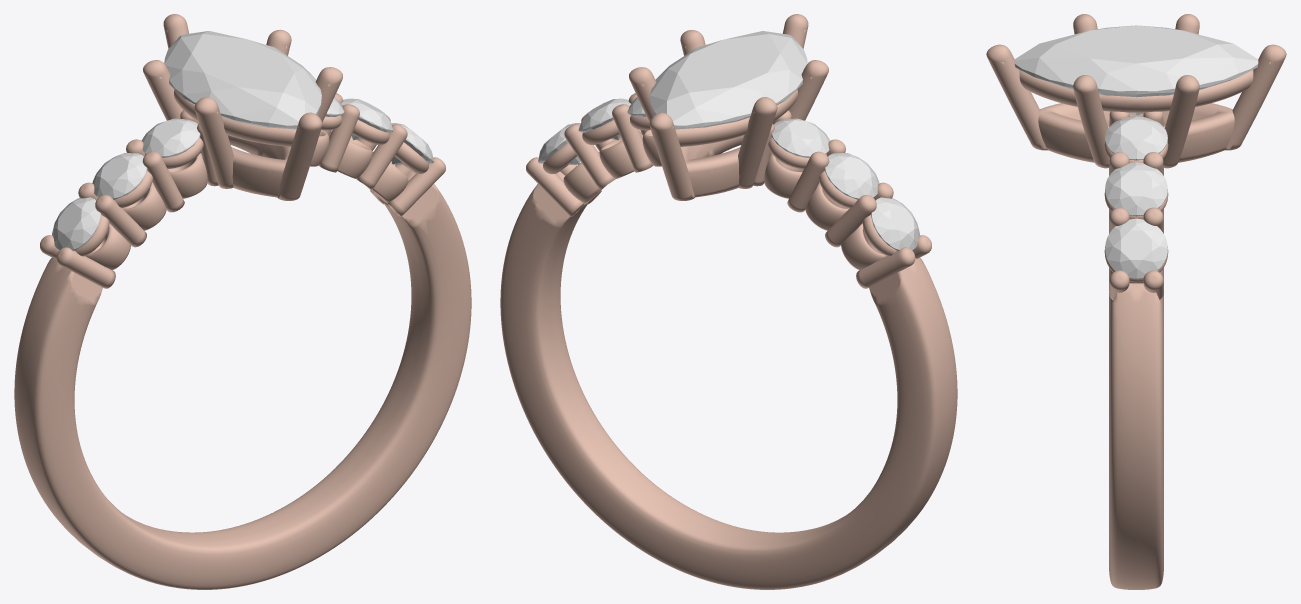
Rendered from diamond-marquise-rosegold-6prong-straightband-7stone.glb.
3 views of the same model, side by side, from view 1: azimuth 30°, elevation 25°; view 2: azimuth 150°, elevation 25°; view 3: azimuth 270°, elevation 25° (orthographic).
Parts seen in each view (by area): view 1: metal.001, stone, dia, dia.003, dia.004, dia.006, dia.005; view 2: metal.001, stone, dia, dia.003, dia.004, dia.006, dia.005; view 3: metal.001, stone, dia.005, dia.006, dia.007.
Boxes of the visible parts, x1,y1,x2,y2 form: metal.001: [14, 14, 471, 589]; stone: [164, 31, 321, 129]; dia: [52, 197, 100, 250]; dia.003: [92, 153, 147, 199]; dia.004: [141, 118, 200, 157]; dia.006: [341, 98, 393, 140]; dia.005: [391, 123, 433, 164]; metal.001: [500, 14, 957, 589]; stone: [650, 31, 807, 129]; dia: [871, 197, 919, 250]; dia.003: [824, 153, 879, 199]; dia.004: [771, 118, 830, 157]; dia.006: [578, 98, 630, 140]; dia.005: [538, 123, 580, 164]; metal.001: [986, 14, 1286, 589]; stone: [1014, 25, 1258, 115]; dia.005: [1105, 218, 1167, 278]; dia.006: [1105, 162, 1167, 216]; dia.007: [1105, 116, 1167, 160].
Bounding box in the file's own units: 20.5 × 22.93 × 11.96.
